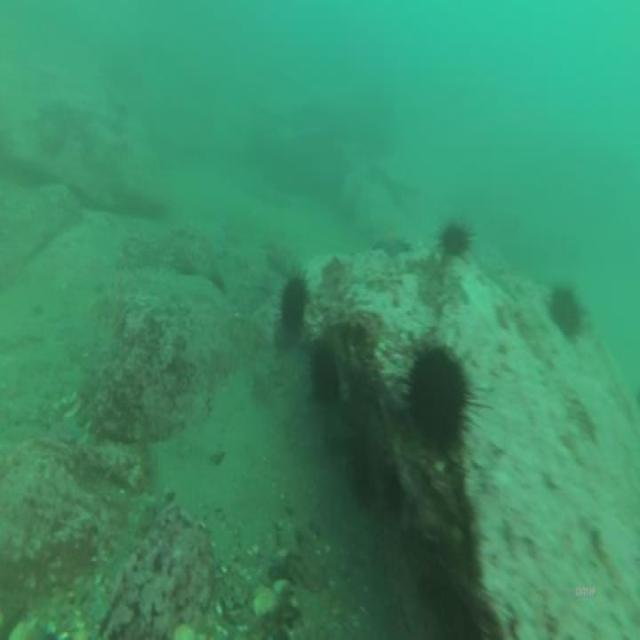echinus: (409, 352, 468, 440), (310, 351, 340, 404), (280, 278, 307, 335), (551, 286, 581, 337), (440, 223, 470, 254)
starfish: (374, 232, 414, 256)
